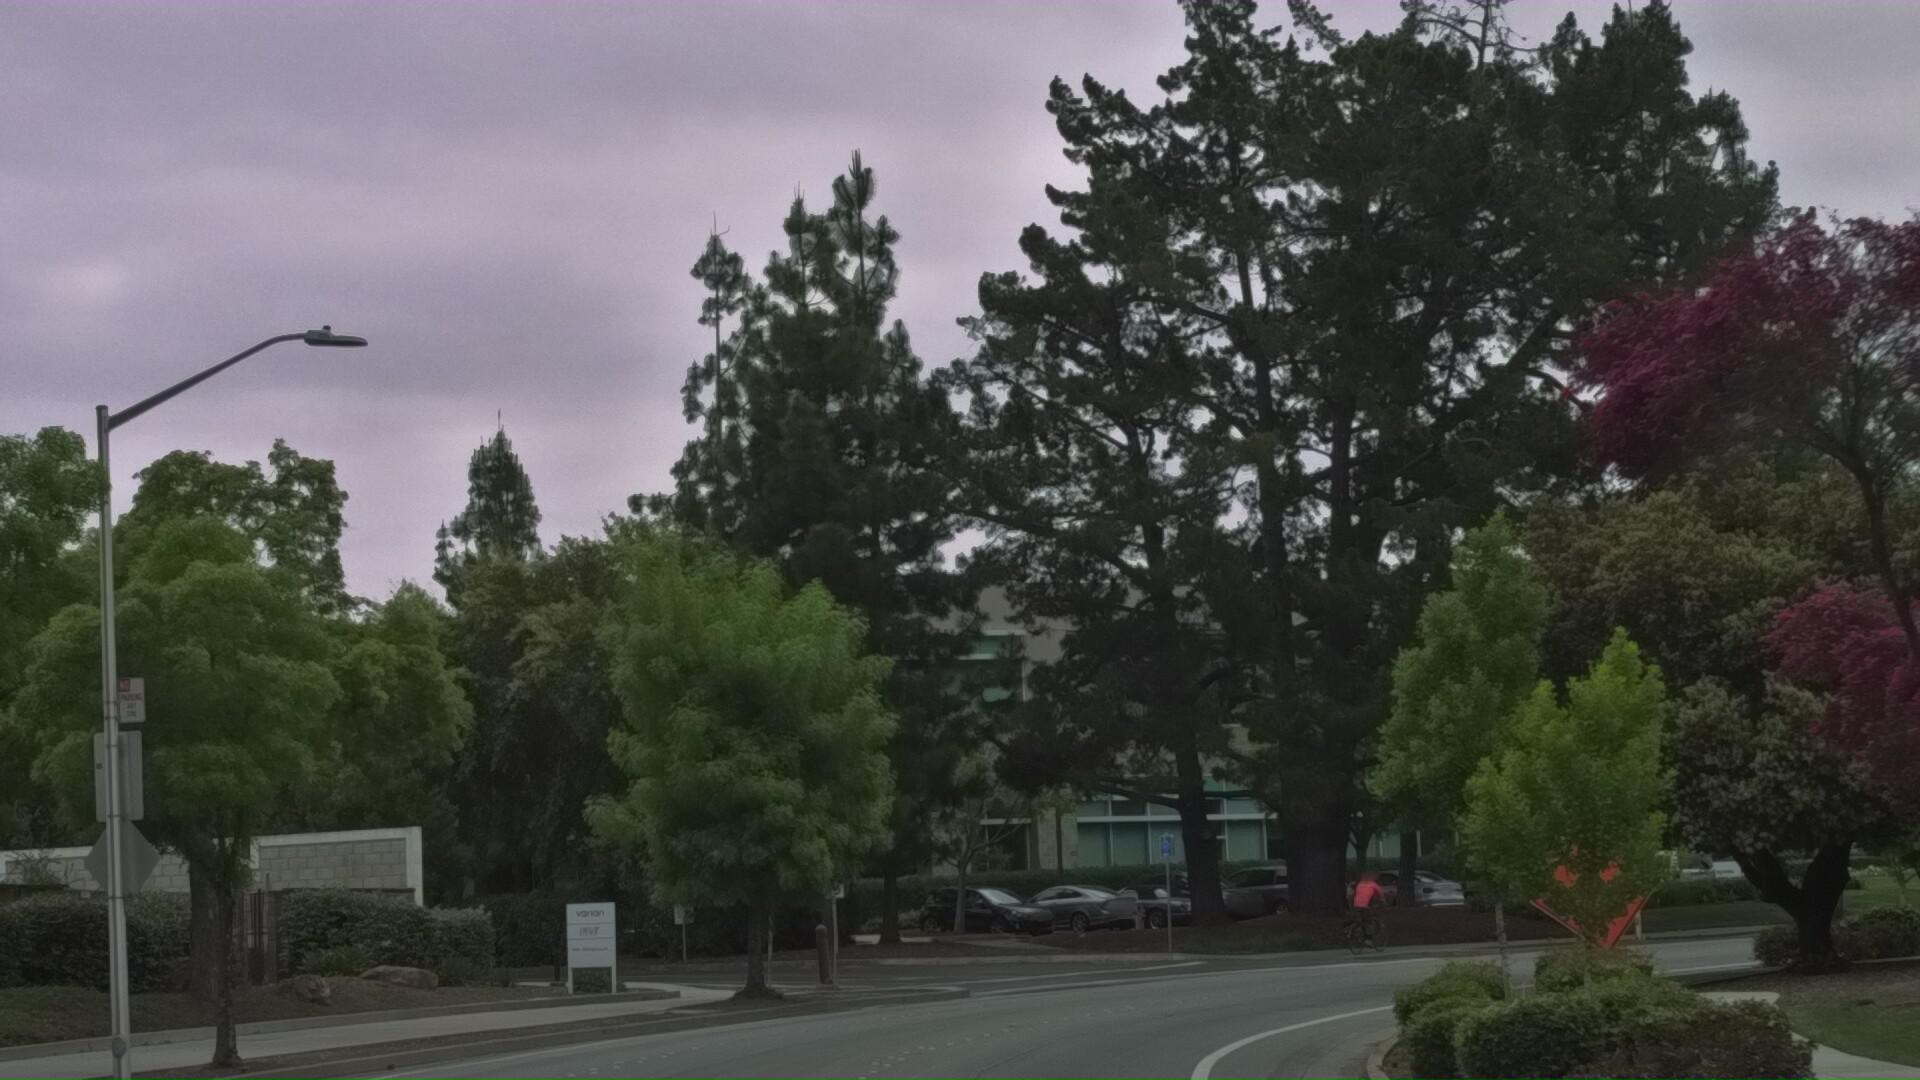bicycle: (1296, 961, 1443, 1080)
